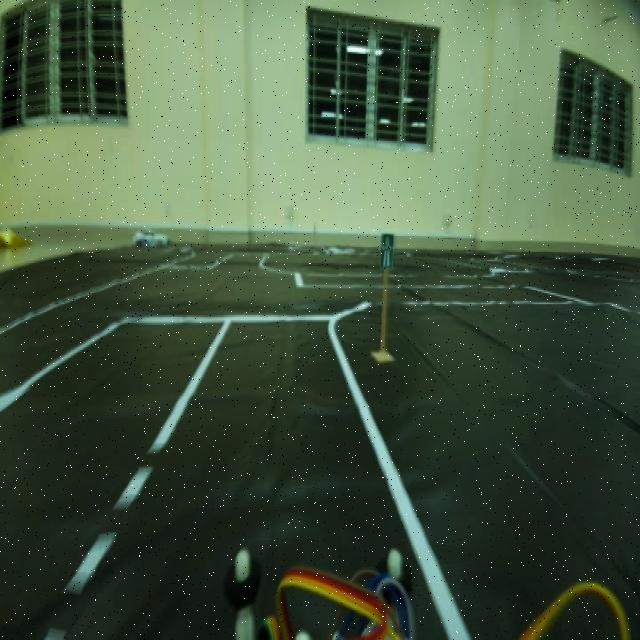highway_entry: (374, 224, 398, 272)
